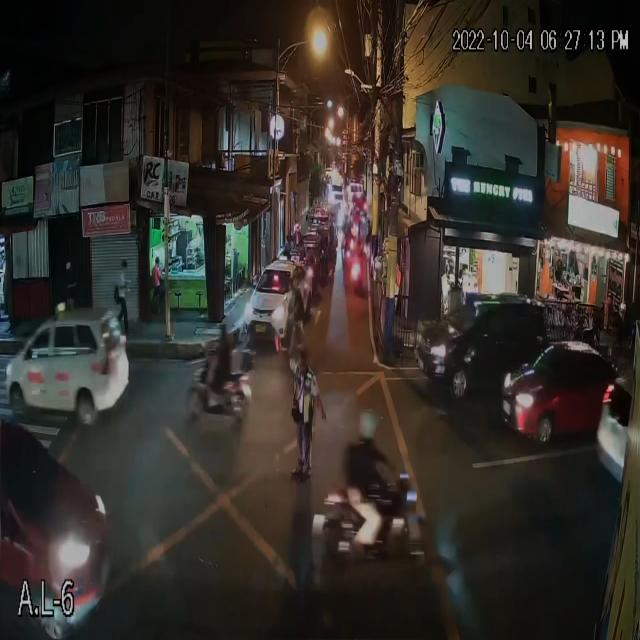Full-Faced: (358, 401, 383, 443)
